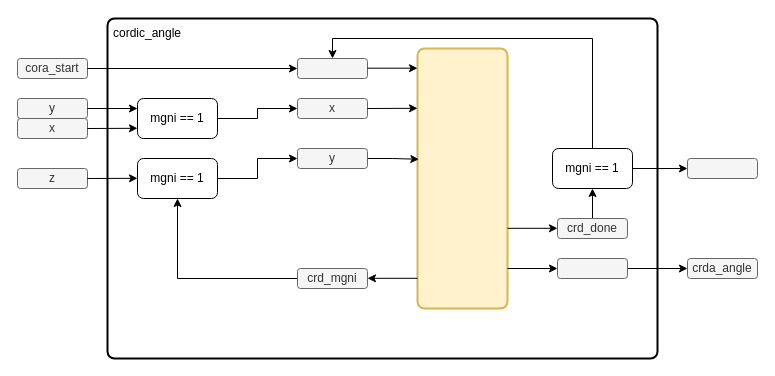
Some shapes in this 775 by 376 pixel diagram are drawn without their labels. Here are the shapes that lost their labels. From the top down, the centre of each, then its label:
the point at 332,68: crd_start
the point at 462,178: crd
the point at 722,168: crda_done
the point at 592,268: crd_angle
